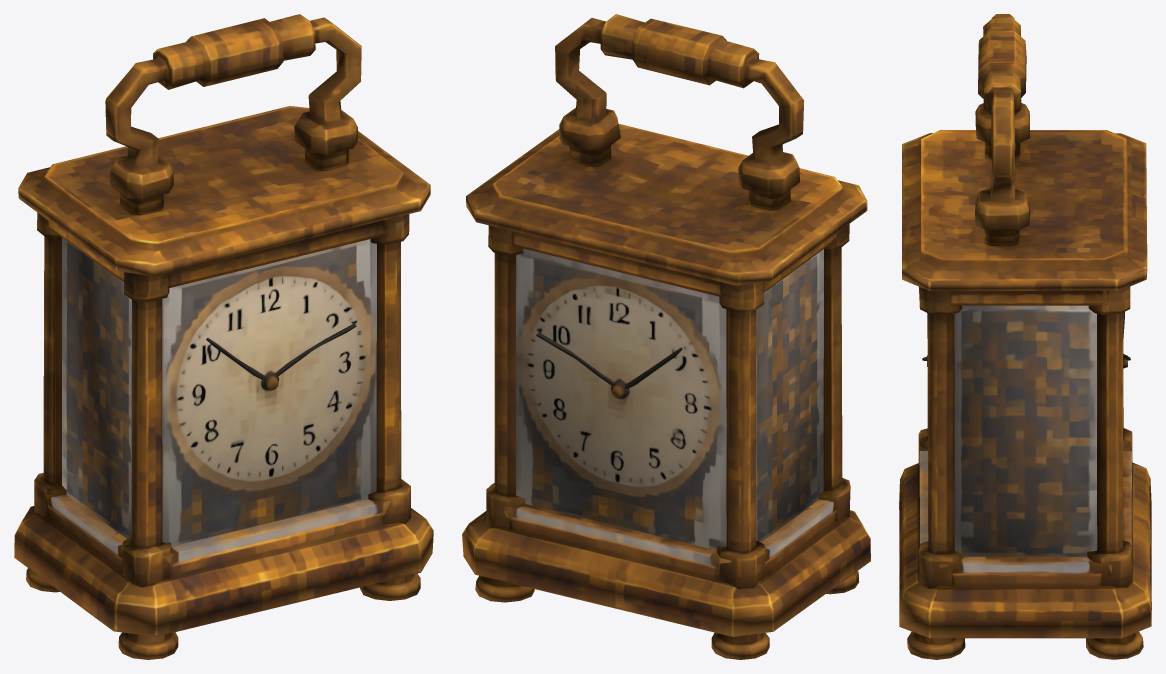
The model's file is carriage_clock.glb.
3 views of the same model, side by side, from view 1: azimuth 30°, elevation 25°; view 2: azimuth 150°, elevation 25°; view 3: azimuth 270°, elevation 25° (orthographic). The views are drawn at different scales.
Parts seen in each view (by area): view 1: geometry_0; view 2: geometry_0; view 3: geometry_0.
Part boxes in pixels (box(x1,y1,x2,y2)): geometry_0: box(14, 14, 433, 659); geometry_0: box(462, 14, 870, 659); geometry_0: box(899, 14, 1151, 659).
Size of the model in its own units: 0.5964 by 1 by 0.4224.
1 material, 1 textured.
